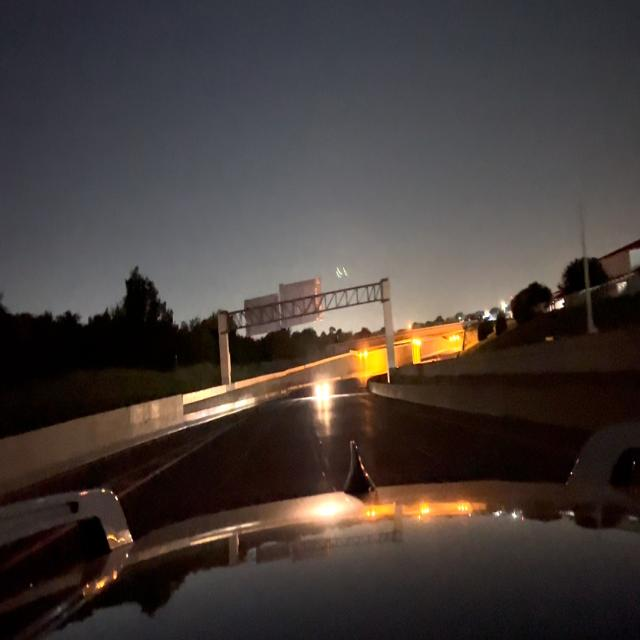back-of-sign: (281, 278, 324, 325), (243, 293, 281, 338)
